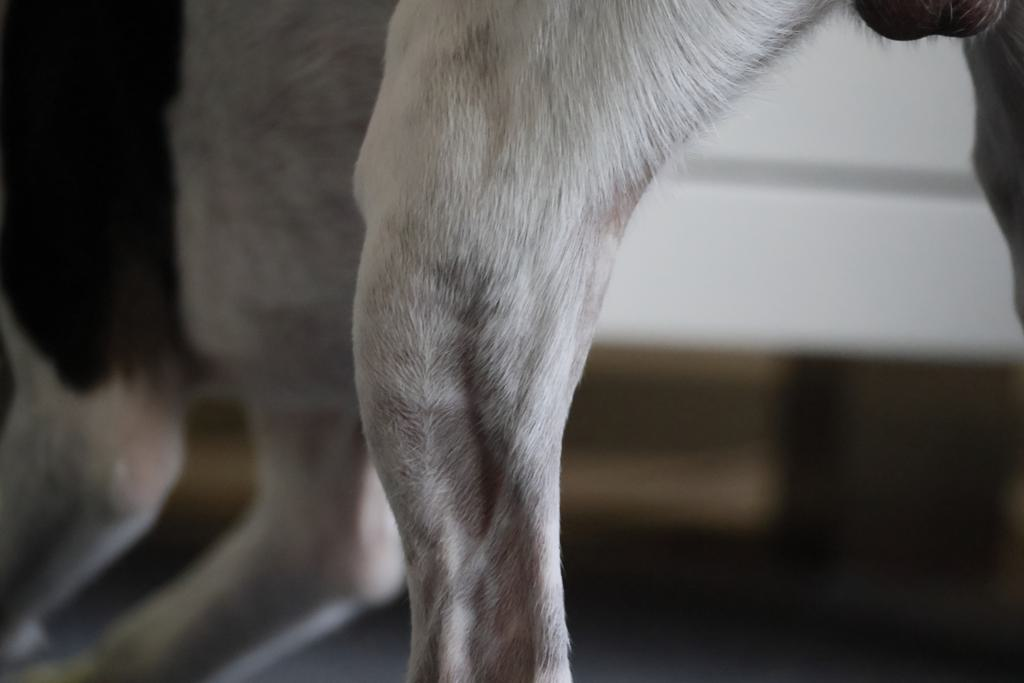Dog: (0, 1, 1024, 683)
